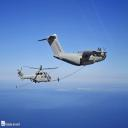helicopter: (17, 65, 62, 85)
